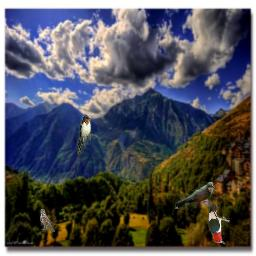Cuckoo: (175, 182, 215, 209)
Sparrow: (40, 209, 55, 232)
Swallow: (77, 115, 91, 155)
Woodpecker: (208, 204, 230, 244)
